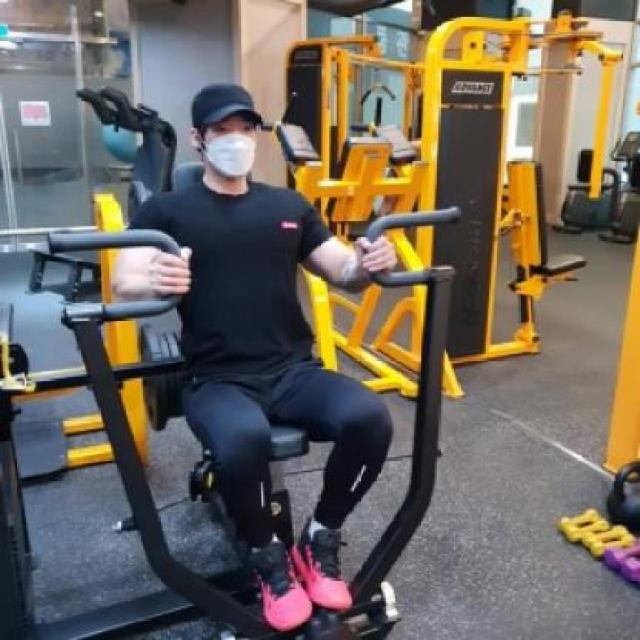Chest Press machine: (6, 72, 468, 640)
